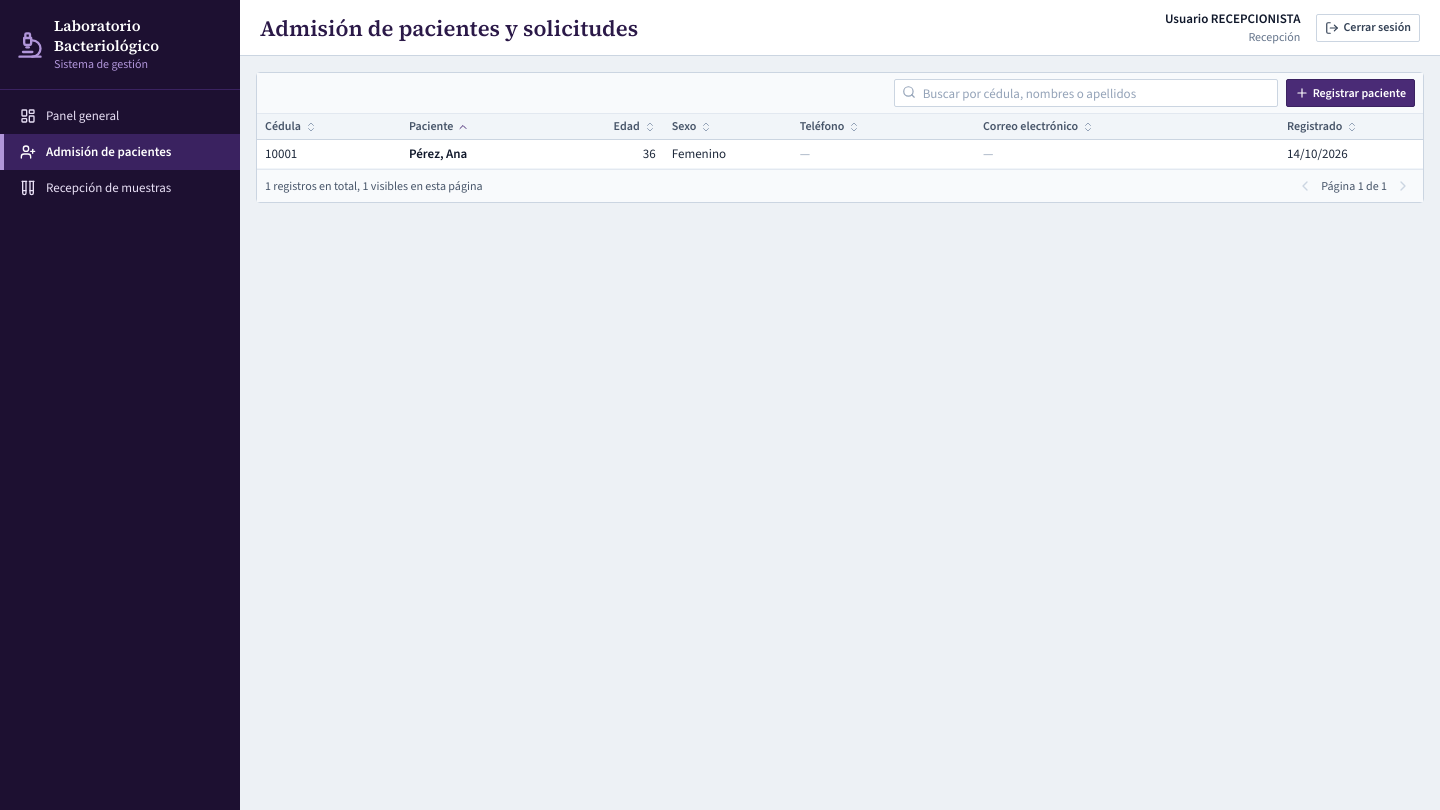
Test case: Admisión (Master-Detail) › abre el detalle del paciente con sus solicitudes
Click the text "Pérez, Ana" at (438, 154), box [409, 145, 467, 162]
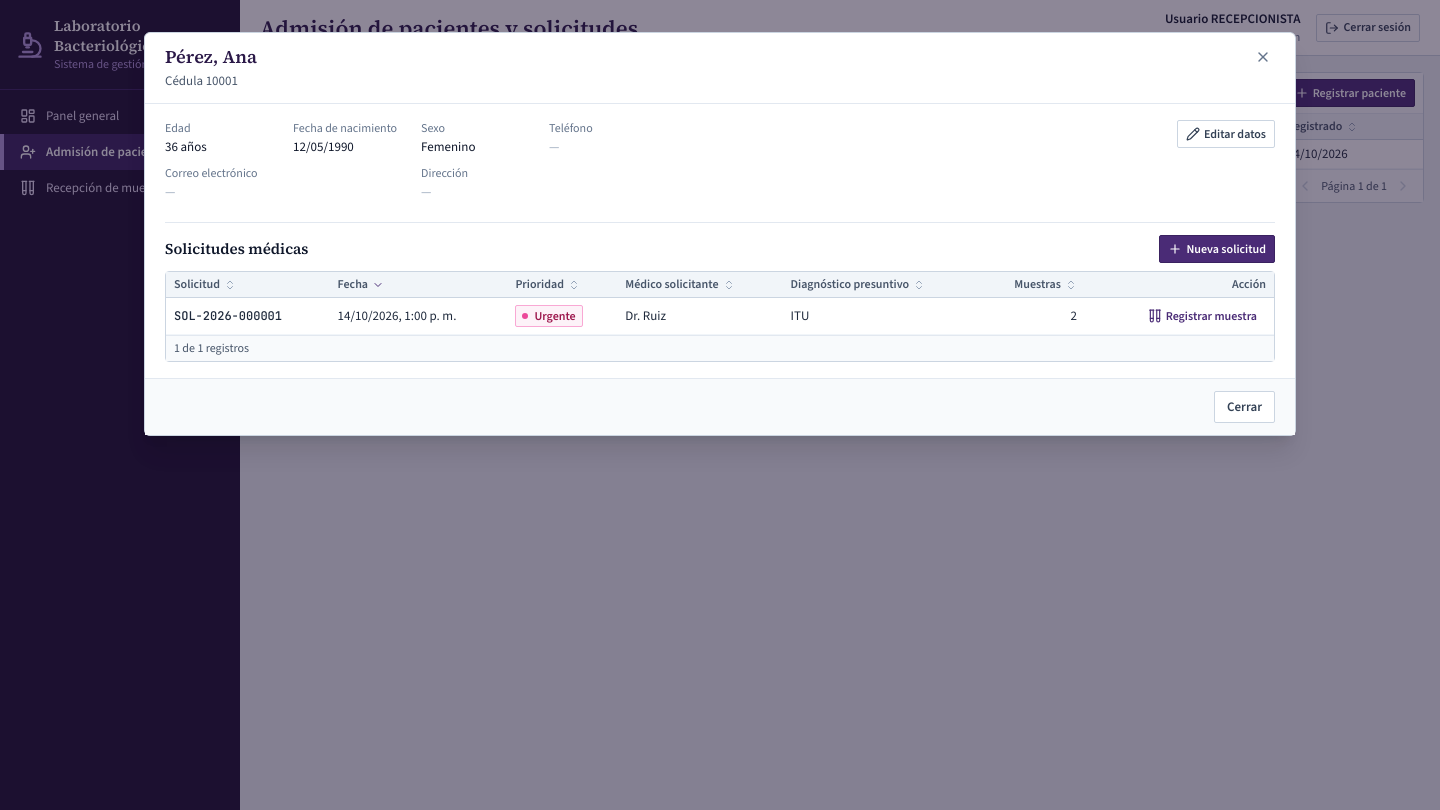
Now the heading "Solicitudes médicas" is shown, box [165, 238, 308, 260]
Now the text "SOL-2026-000001" is shown, box [174, 308, 282, 324]
Now the button "Nueva solicitud" is shown, box [1159, 235, 1275, 263]
